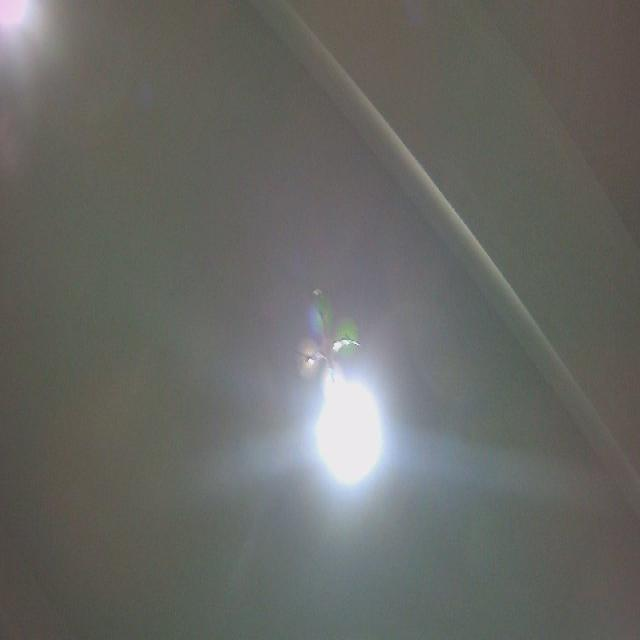drone: (291, 286, 365, 409)
